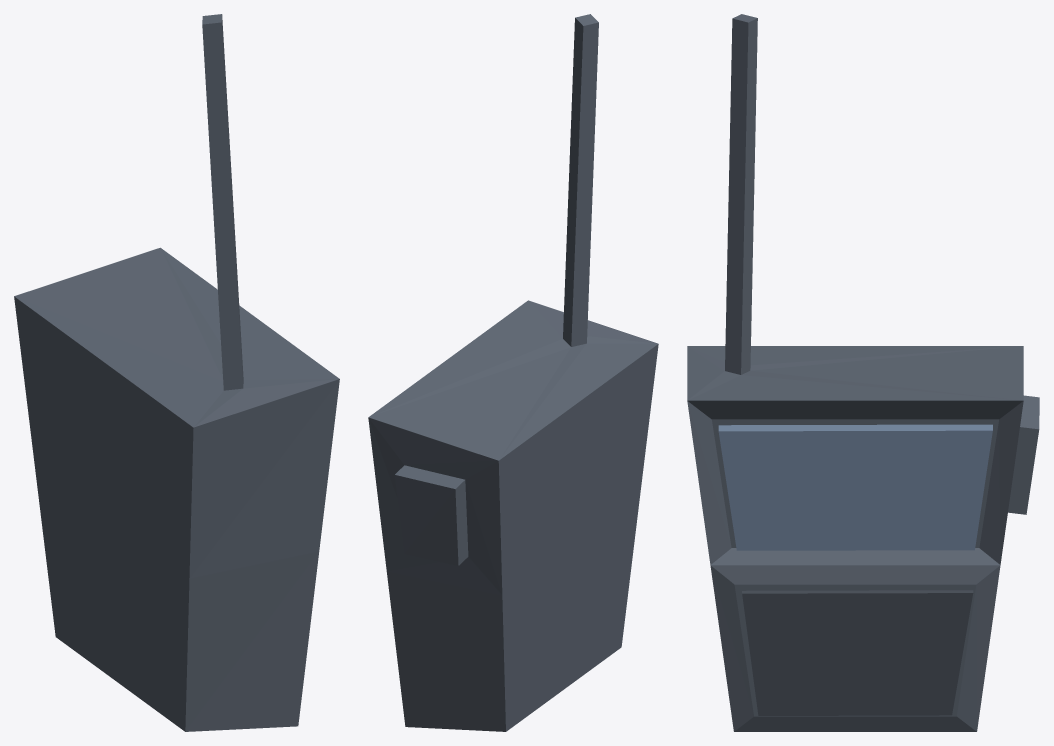
Rendered from TimeLambert.fbx.
3 views of the same model, side by side, from view 1: azimuth 30°, elevation 25°; view 2: azimuth 150°, elevation 25°; view 3: azimuth 270°, elevation 25° (orthographic). The views are drawn at different scales.
Visible parts, largest first — view 1: pCube1; view 2: pCube1; view 3: pCube1, pasted__pCube2, pCube2.
Boxes of the visible parts, box(x1,y1,x2,y2) form: pCube1: box(14, 14, 339, 731); pCube1: box(368, 14, 658, 731); pCube1: box(687, 14, 1039, 731); pasted__pCube2: box(718, 424, 992, 550); pCube2: box(742, 590, 973, 715).
Size of the model in its own units: 3.93 by 18.4 by 8.67.
